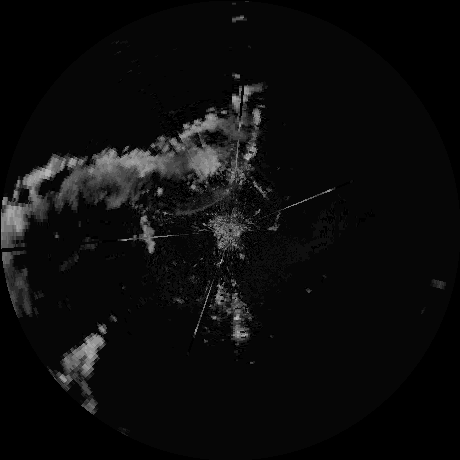frontgust: (174, 189, 228, 217)
